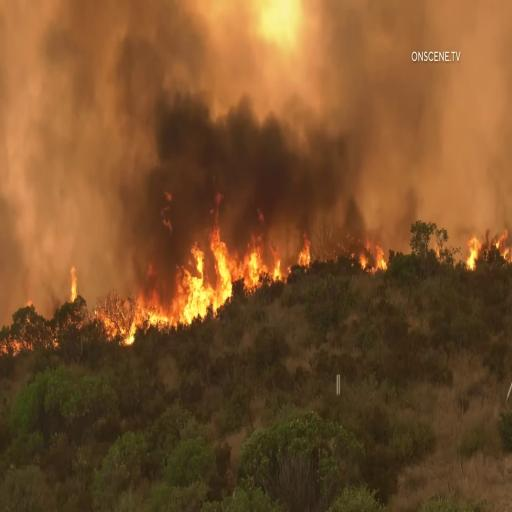fire: (174, 210, 237, 337), (92, 272, 169, 346), (242, 234, 286, 290), (460, 223, 482, 279)
smoke: (130, 24, 358, 223)
